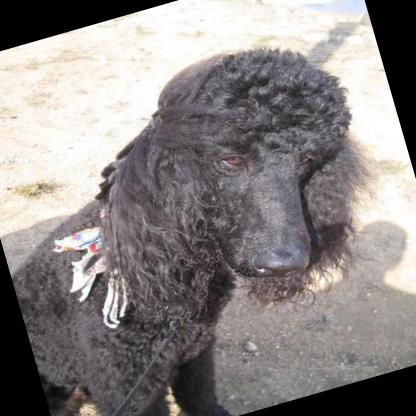standard_poodle: (0, 19, 416, 416)
